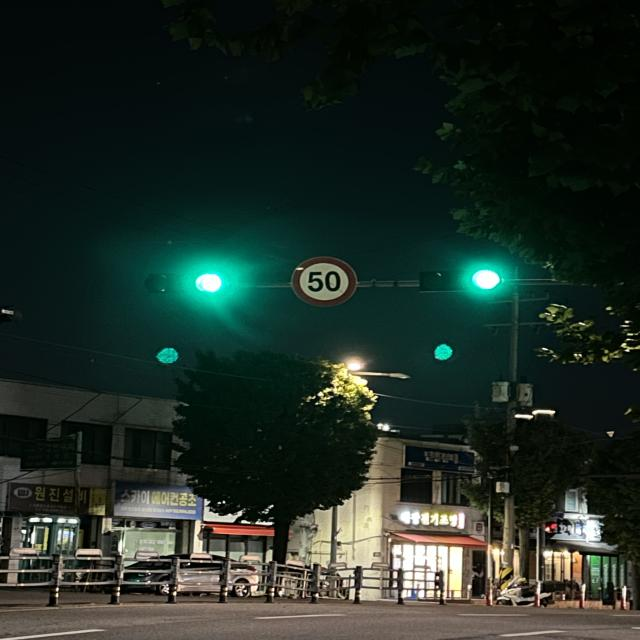Green Light: (469, 268, 502, 292), (193, 272, 224, 295)
